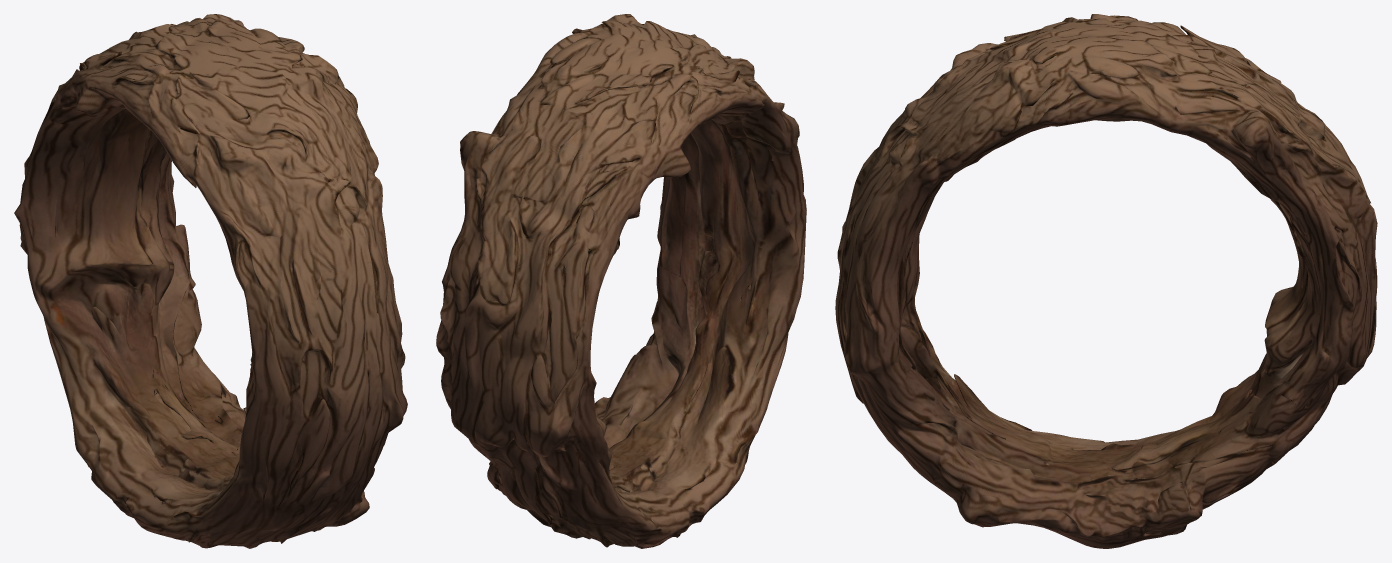
The model's file is wooden+ring+3d+model.fbx.
3 views of the same model, side by side, from view 1: azimuth 30°, elevation 25°; view 2: azimuth 150°, elevation 25°; view 3: azimuth 270°, elevation 25° (orthographic). The views are drawn at different scales.
Visible parts, largest first — view 1: tripo_node_89ee8808; view 2: tripo_node_89ee8808; view 3: tripo_node_89ee8808.
Boxes of the visible parts, x1,y1,x2,y2 form: tripo_node_89ee8808: [14, 14, 407, 548]; tripo_node_89ee8808: [436, 14, 806, 548]; tripo_node_89ee8808: [835, 14, 1377, 548].
Size of the model in its own units: 43.69 by 100 by 99.99.
1 material, 1 textured.
